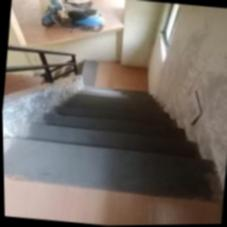Animal: (28, 93, 176, 180)
